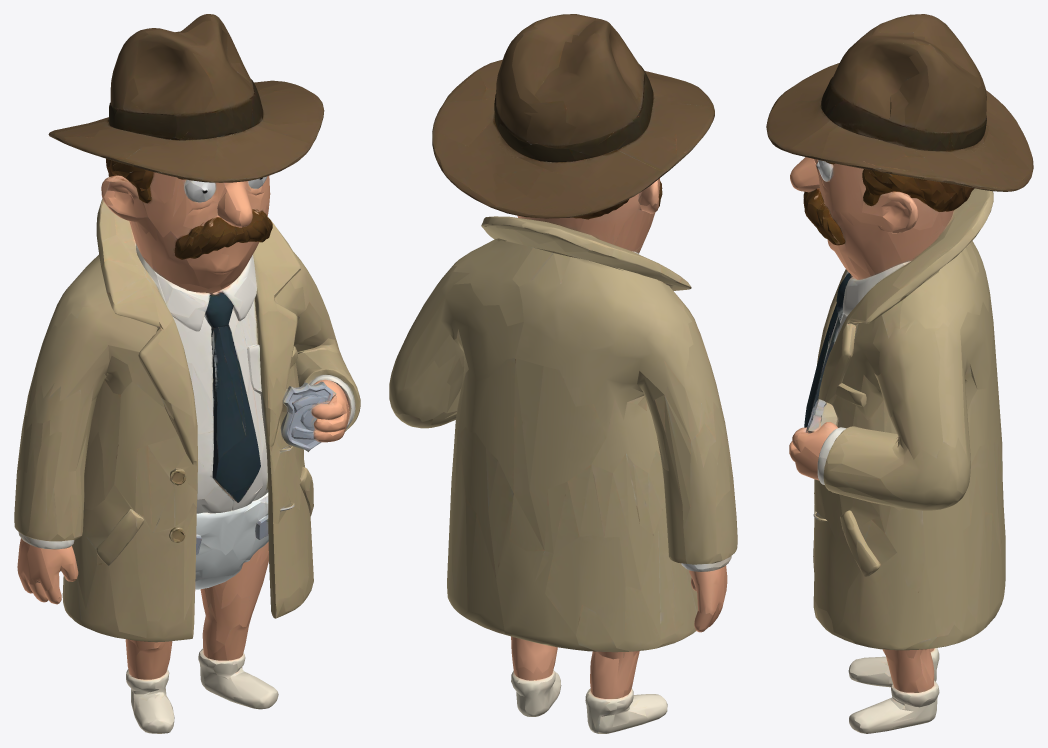
File: babylegs.glb
3 views of the same model, side by side, from view 1: azimuth 30°, elevation 25°; view 2: azimuth 150°, elevation 25°; view 3: azimuth 270°, elevation 25° (orthographic). The views are drawn at different scales.
Bounding box in the file's own units: 0.9515 × 1.9 × 0.6835.
Materials: 1 (1 with a texture image).
